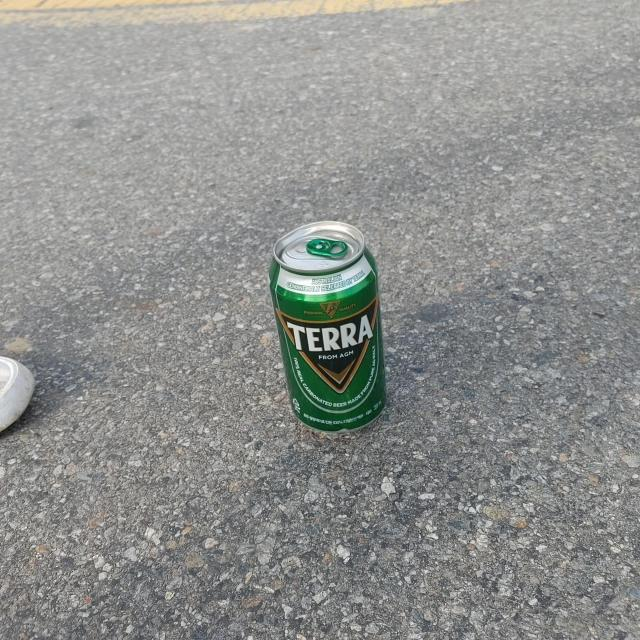can: (269, 221, 386, 433)
